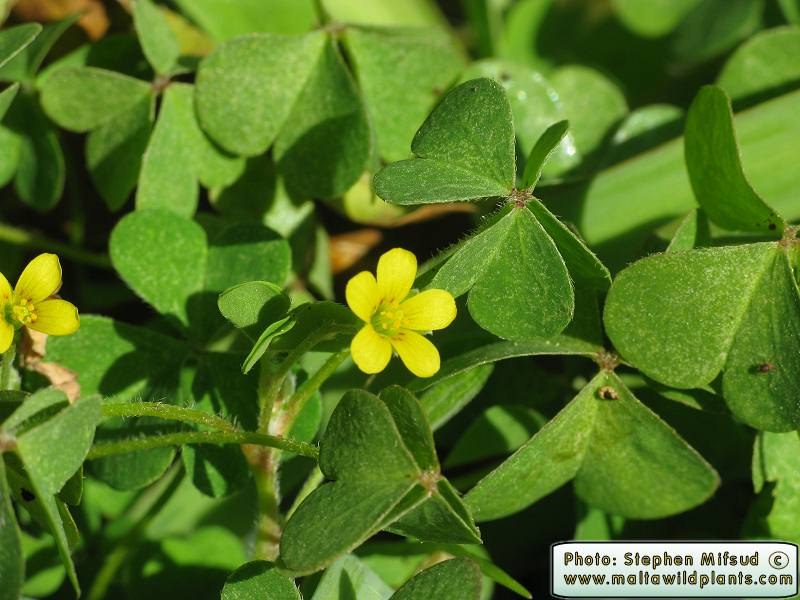oxalis: (47, 329, 708, 600), (76, 37, 417, 229), (615, 64, 800, 393), (443, 52, 597, 338)
